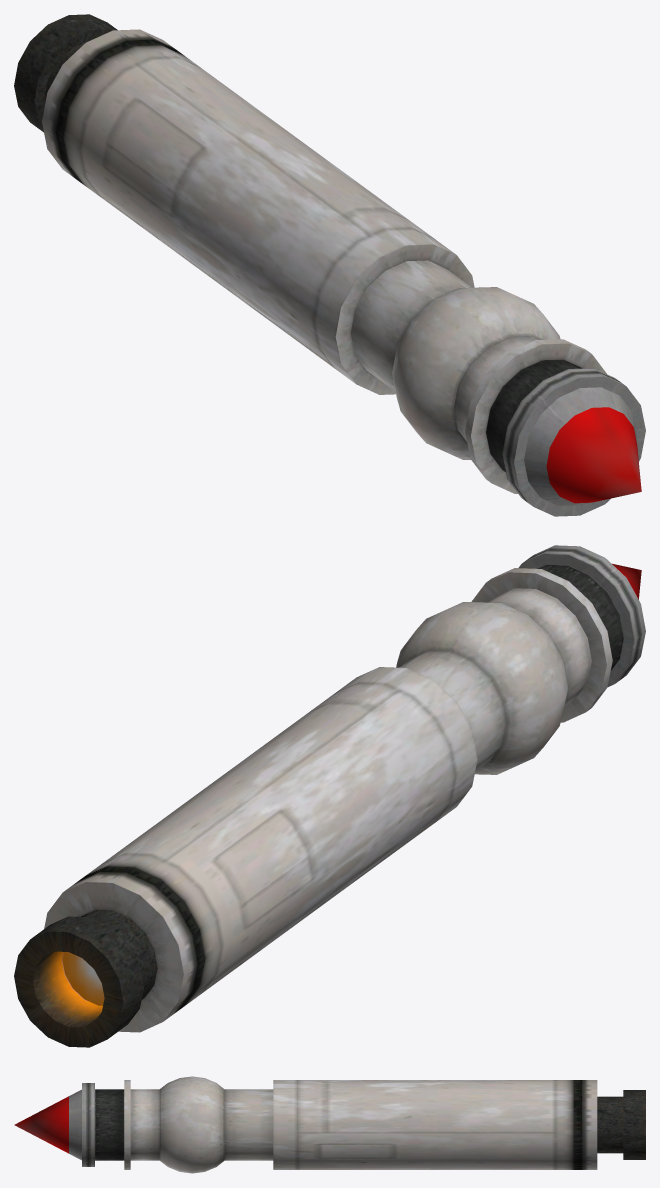
Rendered from missile_proton_torpedo_s01_l0.fbx.
3 renders of one model, top to bottom at view 1: azimuth 30°, elevation 25°; view 2: azimuth 150°, elevation 25°; view 3: azimuth 270°, elevation 25°, orthographic. The views are drawn at different scales.
Parts seen in each view (by area): view 1: mesh_node; view 2: mesh_node; view 3: mesh_node.
Part boxes in pixels (x1,y1,x2,y2): mesh_node: (14,14,645,516); mesh_node: (14,545,645,1047); mesh_node: (14,1076,645,1173).
Size of the model in its own units: 0.3 by 0.3 by 1.95.
